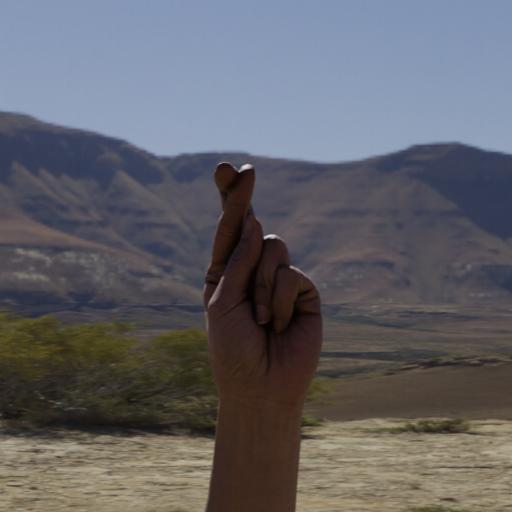R: (197, 155, 331, 426)
